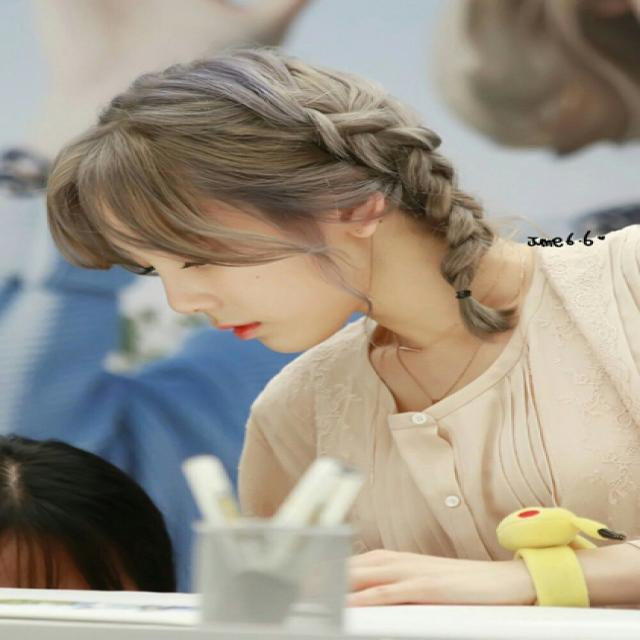Nonhelmet: (25, 46, 473, 358)
